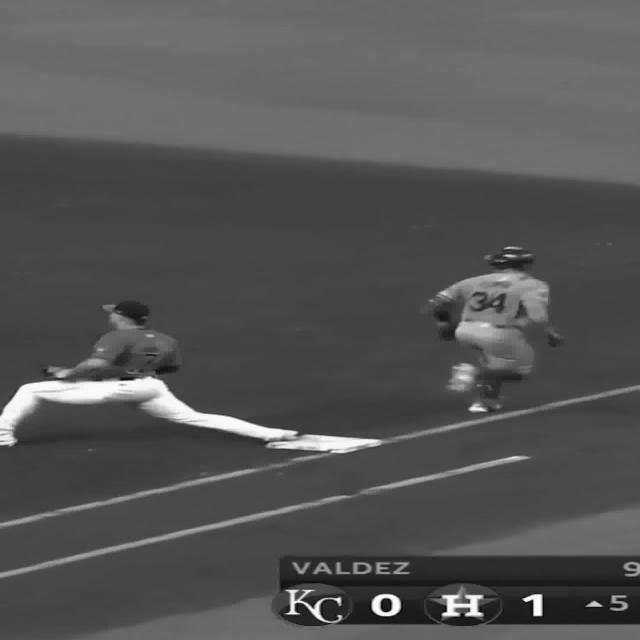base: (264, 432, 382, 454)
shoe: (446, 362, 476, 392), (263, 428, 299, 442), (467, 402, 502, 413), (0, 429, 18, 446)
